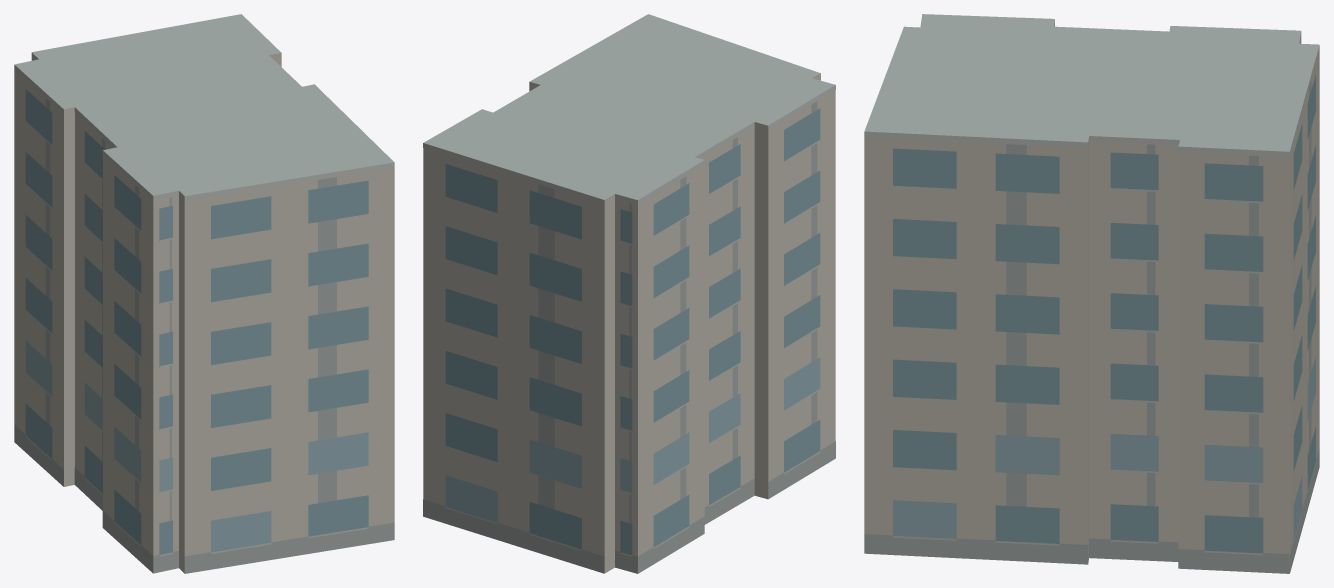
The model's file is survey-upis-32914015.glb.
3 renders of one model, left to right at view 1: azimuth 30°, elevation 25°; view 2: azimuth 150°, elevation 25°; view 3: azimuth 270°, elevation 25°, orthographic. The views are drawn at different scales.
Visible parts, largest first — view 1: survey-upis-32914015.tmp; view 2: survey-upis-32914015.tmp; view 3: survey-upis-32914015.tmp.
Boxes of the visible parts, box(x1,y1,x2,y2) form: survey-upis-32914015.tmp: box(14, 14, 394, 573); survey-upis-32914015.tmp: box(423, 14, 835, 573); survey-upis-32914015.tmp: box(864, 14, 1319, 573).
Bounding box in the file's own units: 12.54 × 17.9 × 17.51.
